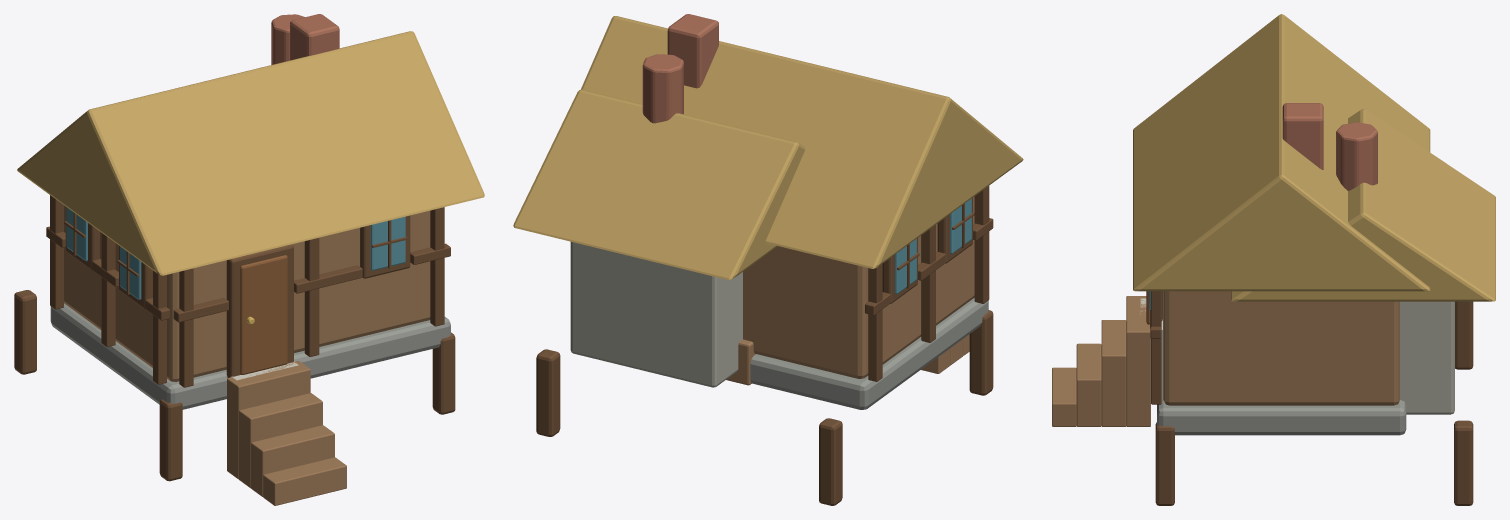
The model's file is wetland-cottage-3.glb.
3 renders of one model, left to right at view 1: azimuth 30°, elevation 25°; view 2: azimuth 150°, elevation 25°; view 3: azimuth 270°, elevation 25°, orthographic. The views are drawn at different scales.
Parts seen in each view (by area): view 1: Golden thatch, Aged oak, Dark beams, Foundation stone, Door oak, Blue glass, Chimney brick; view 2: Golden thatch, Aged oak, Fieldstone, Dark beams, Foundation stone, Chimney brick, Blue glass; view 3: Golden thatch, Aged oak, Foundation stone, Fieldstone, Dark beams, Chimney brick.
Boxes of the visible parts, x1,y1,x2,y2 form: Golden thatch: (17,31,484,275); Aged oak: (64,205,430,505); Dark beams: (14,195,455,481); Foundation stone: (50,303,450,409); Door oak: (240,255,287,374); Blue glass: (66,207,405,299); Chimney brick: (271,14,339,64); Golden thatch: (513,16,1023,279); Aged oak: (726,196,974,385); Fieldstone: (570,242,742,387); Dark beams: (536,186,993,505); Foundation stone: (750,298,988,409); Chimney brick: (642,14,718,123); Blue glass: (895,198,971,294); Golden thatch: (1133,14,1495,301); Aged oak: (1052,291,1399,426); Foundation stone: (1157,291,1406,435); Fieldstone: (1400,301,1454,414); Dark beams: (1147,291,1473,505); Chimney brick: (1282,103,1377,190).
Bounding box in the file's own units: 3.6 × 3.72 × 4.13.
